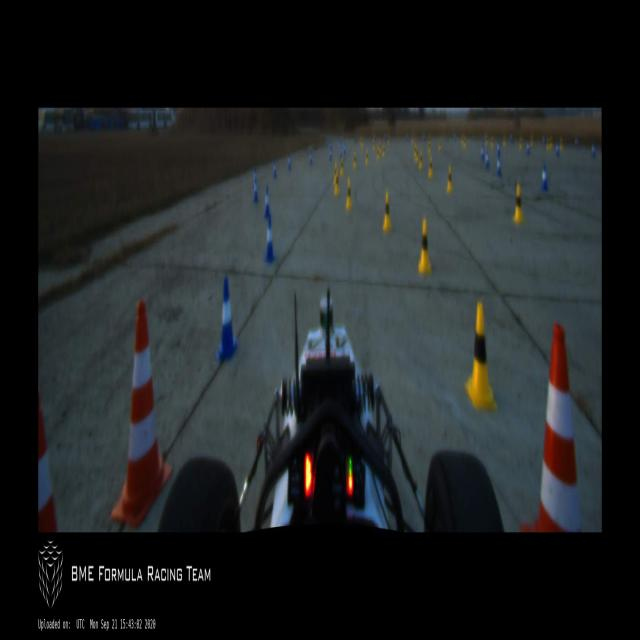blue_cone: (216, 277, 238, 363), (263, 218, 275, 262), (542, 162, 550, 192), (264, 188, 270, 218), (252, 166, 258, 188), (496, 155, 502, 177), (253, 179, 258, 203), (485, 150, 490, 170), (272, 160, 277, 178), (480, 144, 484, 161), (329, 146, 333, 162), (592, 142, 596, 158), (288, 153, 291, 170), (309, 150, 312, 165), (556, 141, 559, 156), (527, 140, 530, 153), (498, 142, 500, 154), (576, 137, 578, 148), (543, 134, 545, 144), (510, 133, 512, 142), (454, 132, 456, 141), (344, 145, 346, 153)
large_orange_cone: (110, 300, 173, 525), (520, 320, 586, 532)
yellow_cone: (465, 301, 495, 410), (418, 218, 430, 274), (382, 192, 392, 232), (514, 183, 524, 223), (346, 178, 352, 211), (447, 165, 453, 193), (334, 171, 340, 195), (428, 156, 433, 178), (340, 157, 344, 177), (419, 151, 423, 171), (334, 161, 337, 186), (353, 153, 357, 170), (415, 146, 419, 163), (438, 137, 442, 150), (519, 136, 523, 149), (546, 136, 550, 149), (560, 136, 564, 149), (365, 149, 368, 165), (530, 135, 534, 147), (550, 134, 553, 148), (464, 136, 467, 149), (491, 136, 494, 149), (428, 141, 431, 152), (377, 146, 379, 160), (504, 133, 506, 147), (414, 145, 416, 157), (383, 144, 385, 156), (361, 138, 363, 148), (373, 140, 375, 149)
